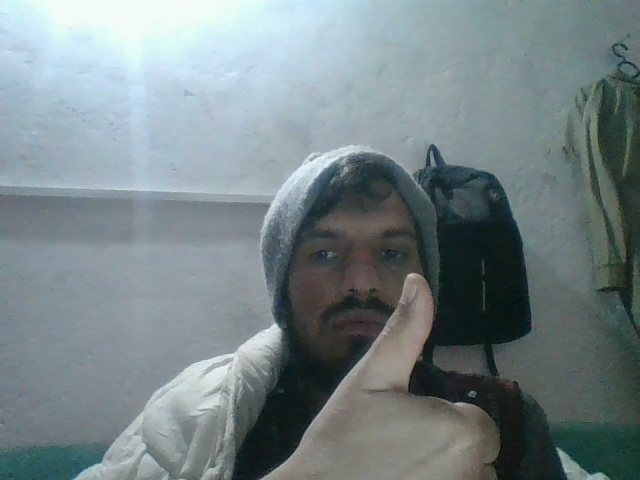ThumbsUp: (291, 271, 507, 480)
